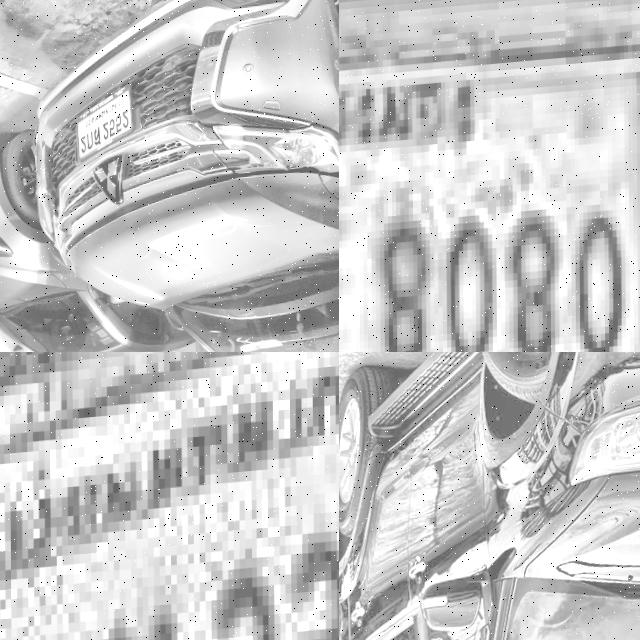license-plate: (339, 0, 640, 352), (0, 352, 339, 640), (75, 89, 132, 169)
